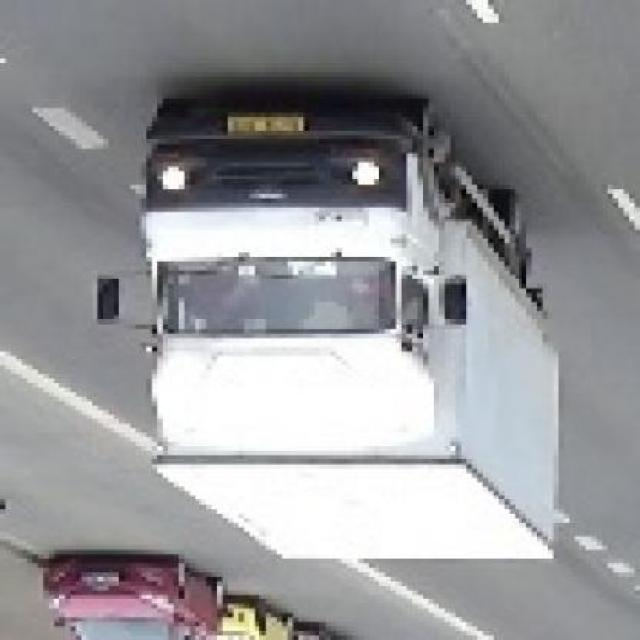truck: (99, 101, 571, 570)
